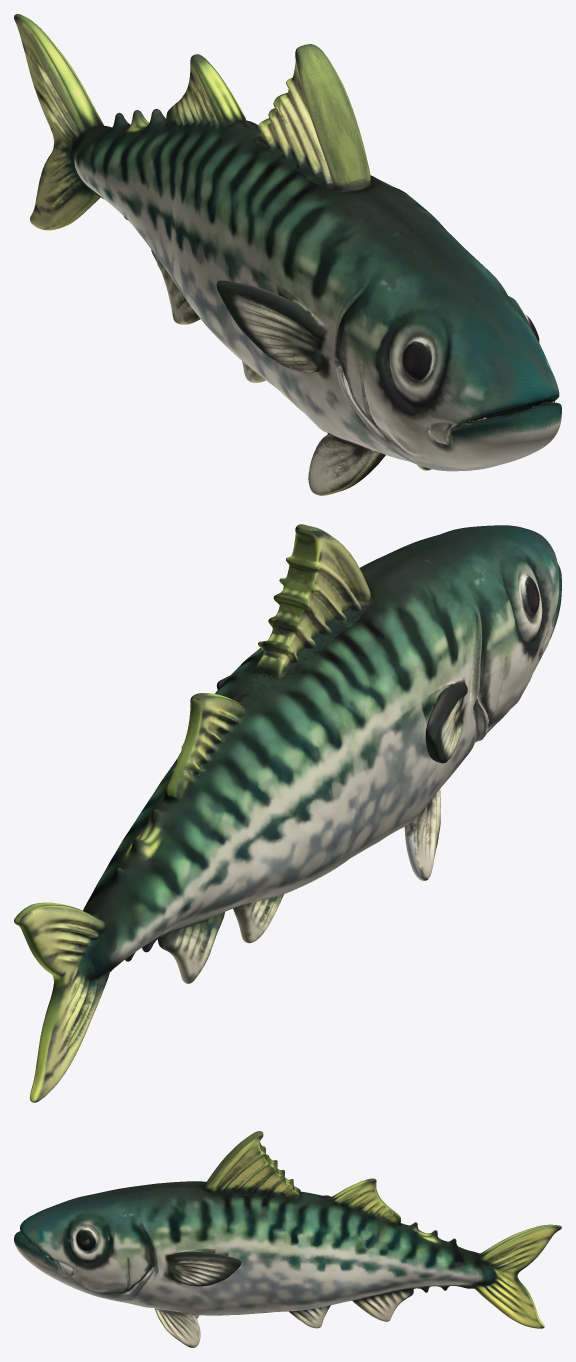
The model's file is Maquereau.fbx.
3 views of the same model, one above another, from view 1: azimuth 30°, elevation 25°; view 2: azimuth 150°, elevation 25°; view 3: azimuth 270°, elevation 25° (orthographic). The views are drawn at different scales.
Parts seen in each view (by area): view 1: Mesh_0; view 2: Mesh_0; view 3: Mesh_0.
Boxes of the visible parts, box(x1,y1,x2,y2) form: Mesh_0: box(14, 14, 561, 495); Mesh_0: box(14, 524, 561, 1102); Mesh_0: box(14, 1131, 561, 1347).
Bounding box in the file's own units: 45.22 × 77.07 × 190.
1 material, 1 textured.
